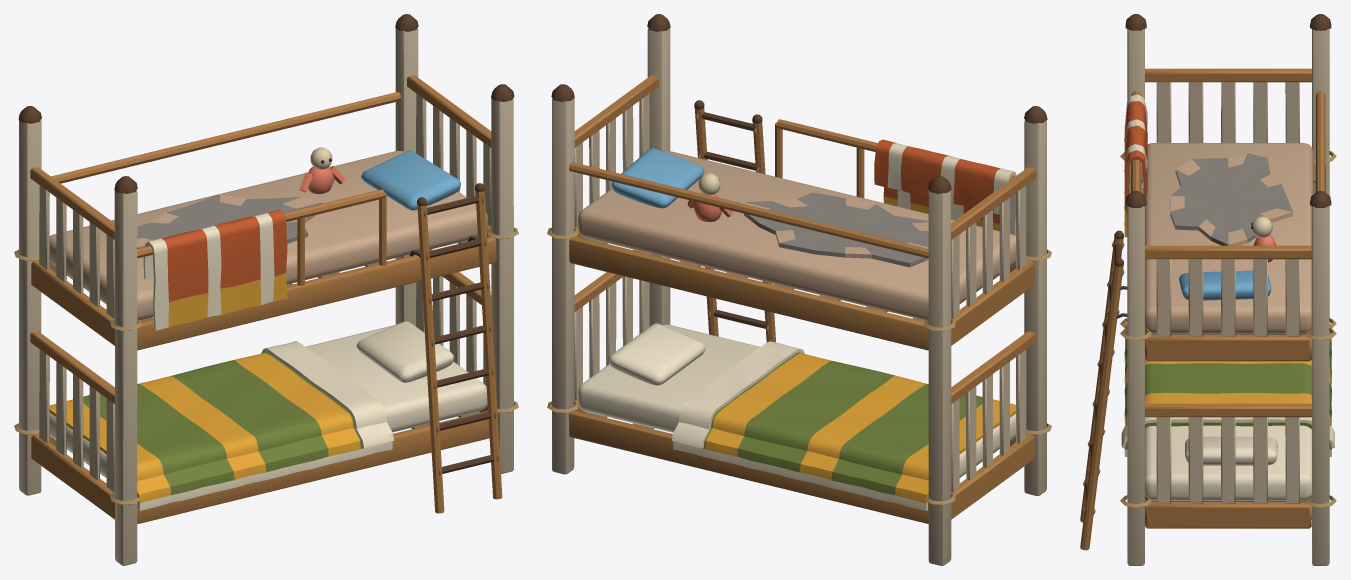
File: deco_bed_bunk.fbx
The picture shows the model from 3 angles, left to right: view 1: azimuth 30°, elevation 25°; view 2: azimuth 150°, elevation 25°; view 3: azimuth 270°, elevation 25°; orthographic projection. The views are drawn at different scales.
Parts seen in each view (by area): view 1: Bed_Bunk_Frame, Bed_Bunk_Bedding, Bed_Bunk_MattressHigh, Bed_Bunk_Ladder, Bed_Bunk_MattressLow; view 2: Bed_Bunk_Frame, Bed_Bunk_Bedding, Bed_Bunk_MattressHigh, Bed_Bunk_MattressLow, Bed_Bunk_Ladder; view 3: Bed_Bunk_Frame, Bed_Bunk_Bedding, Bed_Bunk_MattressHigh, Bed_Bunk_MattressLow, Bed_Bunk_Ladder.
Boxes of the visible parts, x1,y1,x2,y2 form: Bed_Bunk_Frame: (14, 14, 518, 565); Bed_Bunk_Bedding: (49, 147, 460, 510); Bed_Bunk_MattressHigh: (49, 150, 487, 320); Bed_Bunk_Ladder: (409, 183, 502, 513); Bed_Bunk_MattressLow: (49, 325, 487, 477); Bed_Bunk_Frame: (547, 14, 1051, 565); Bed_Bunk_Bedding: (609, 139, 1016, 510); Bed_Bunk_MattressHigh: (578, 150, 1015, 320); Bed_Bunk_MattressLow: (578, 324, 1015, 477); Bed_Bunk_Ladder: (694, 100, 775, 342); Bed_Bunk_Frame: (1120, 14, 1336, 565); Bed_Bunk_Bedding: (1121, 94, 1335, 465); Bed_Bunk_MattressHigh: (1143, 143, 1313, 333); Bed_Bunk_MattressLow: (1145, 425, 1311, 500); Bed_Bunk_Ladder: (1080, 230, 1127, 550).
Bounding box in the file's own units: 308 × 280 × 175.
